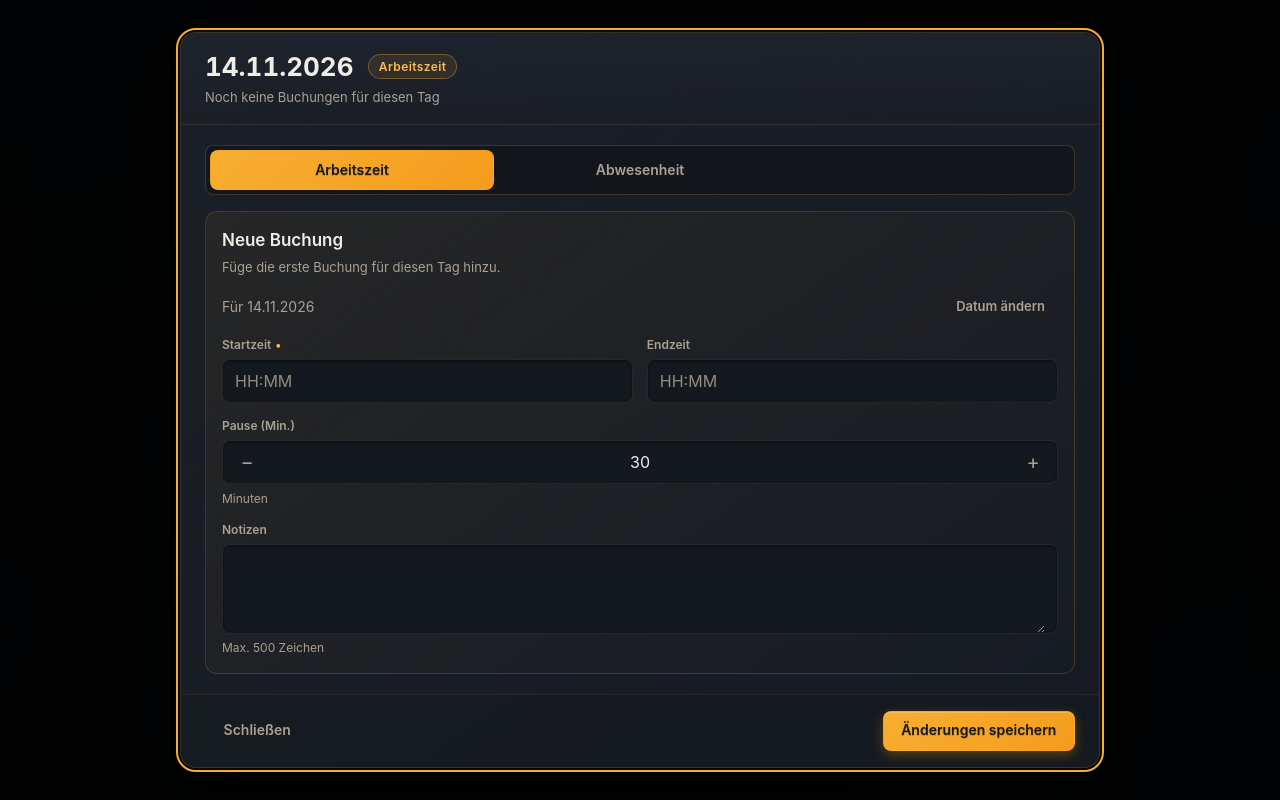
Test case: TimeEntryDialog › shows the header and an empty state in German
Expected: the heading "Neue Buchung" is shown, x1=222 y1=230 x2=343 y2=250
Expected: the dialog shows "14.11.2026", x1=205 y1=51 x2=353 y2=82
Click the button "Änderungen speichern" at (979, 731), box x1=883 y1=711 x2=1075 y2=751
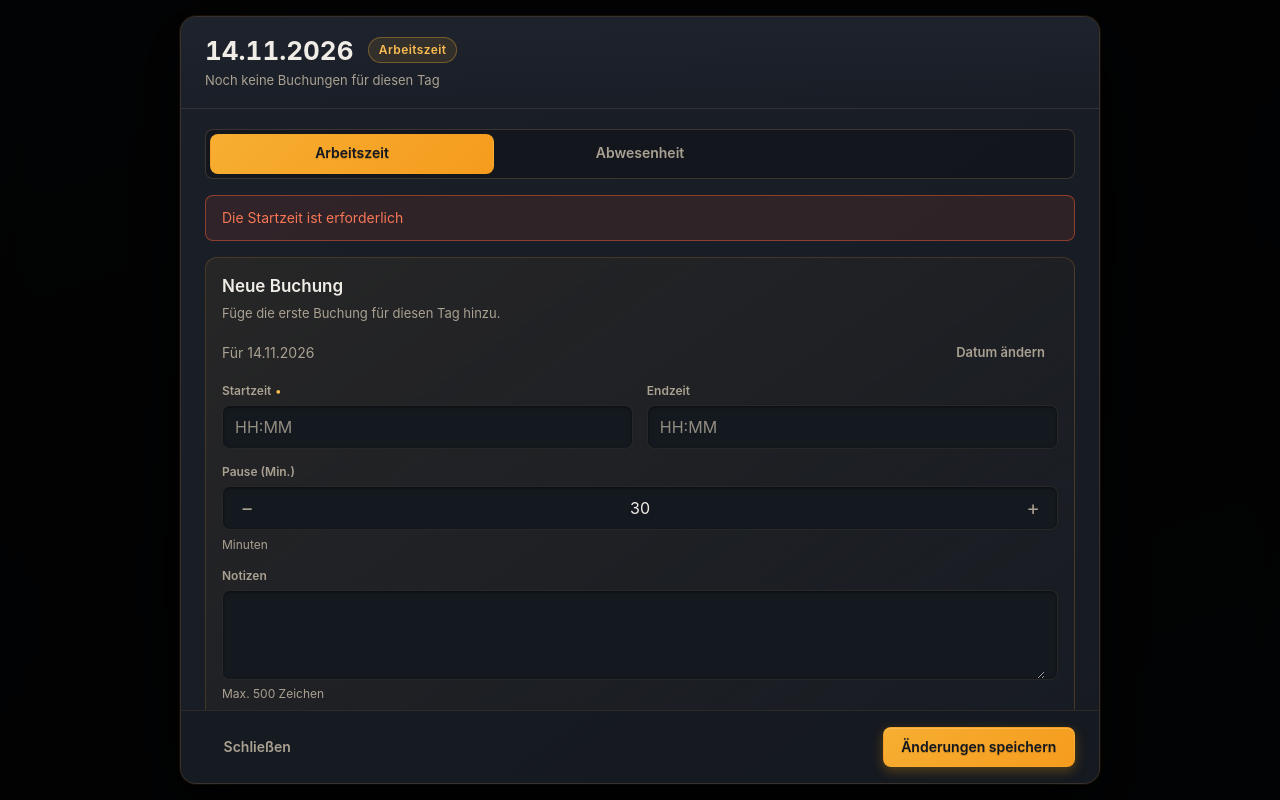
Expected: the message reads "Die Startzeit ist erforderlich", x1=222 y1=209 x2=403 y2=226
